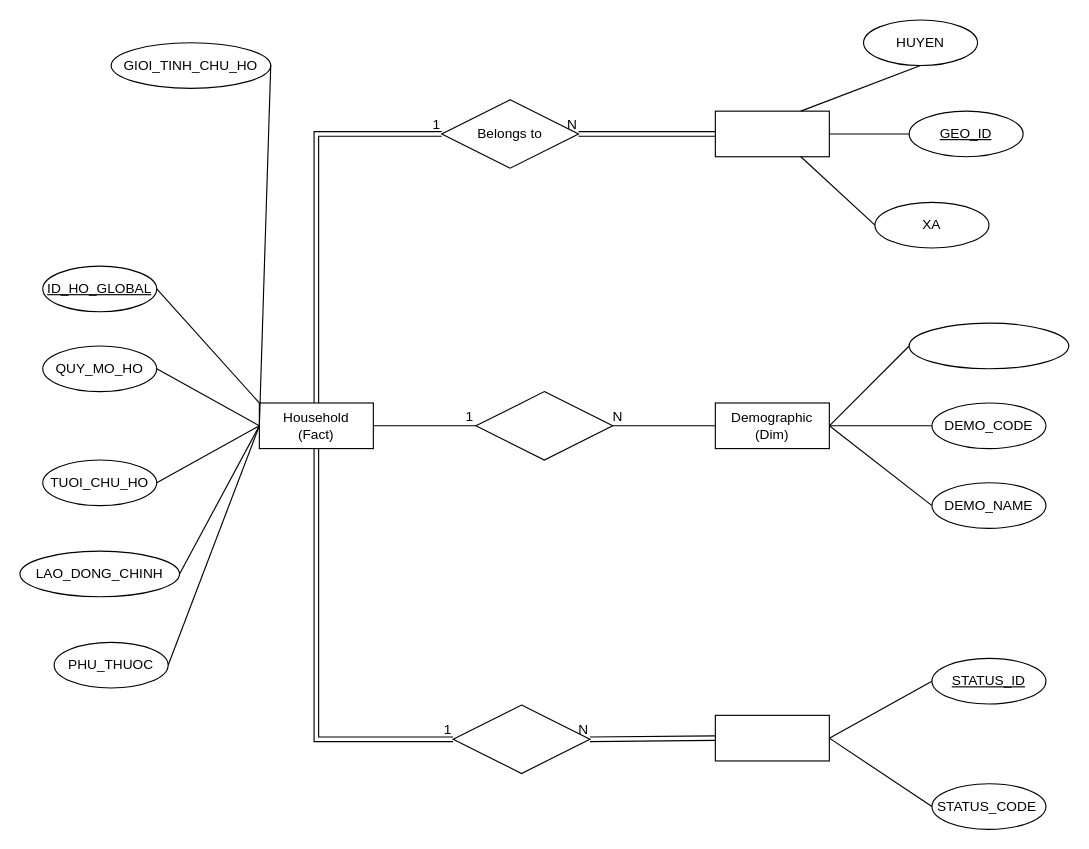
Some shapes in this 1089 by 849 pixel diagram are drawn without their labels. Here are the shapes that lost their labels. From the top down, the centre of each, then its label:
At pixel 771 133: "Geography (Dim)".
At pixel 988 345: "DEMO_ ID".
At pixel 544 425: "Has Demographic".
At pixel 521 738: "Has Status".
At pixel 771 737: "Household Status (Dim)".
